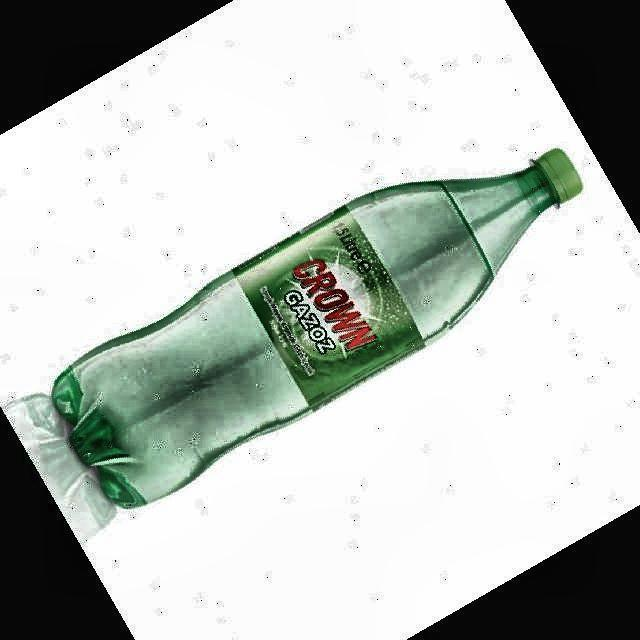plastic: (51, 152, 580, 508)
